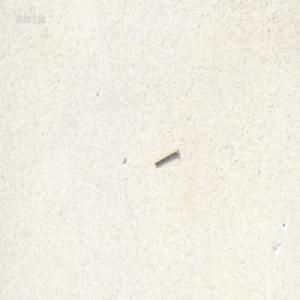Bolt: (153, 145, 178, 166)
